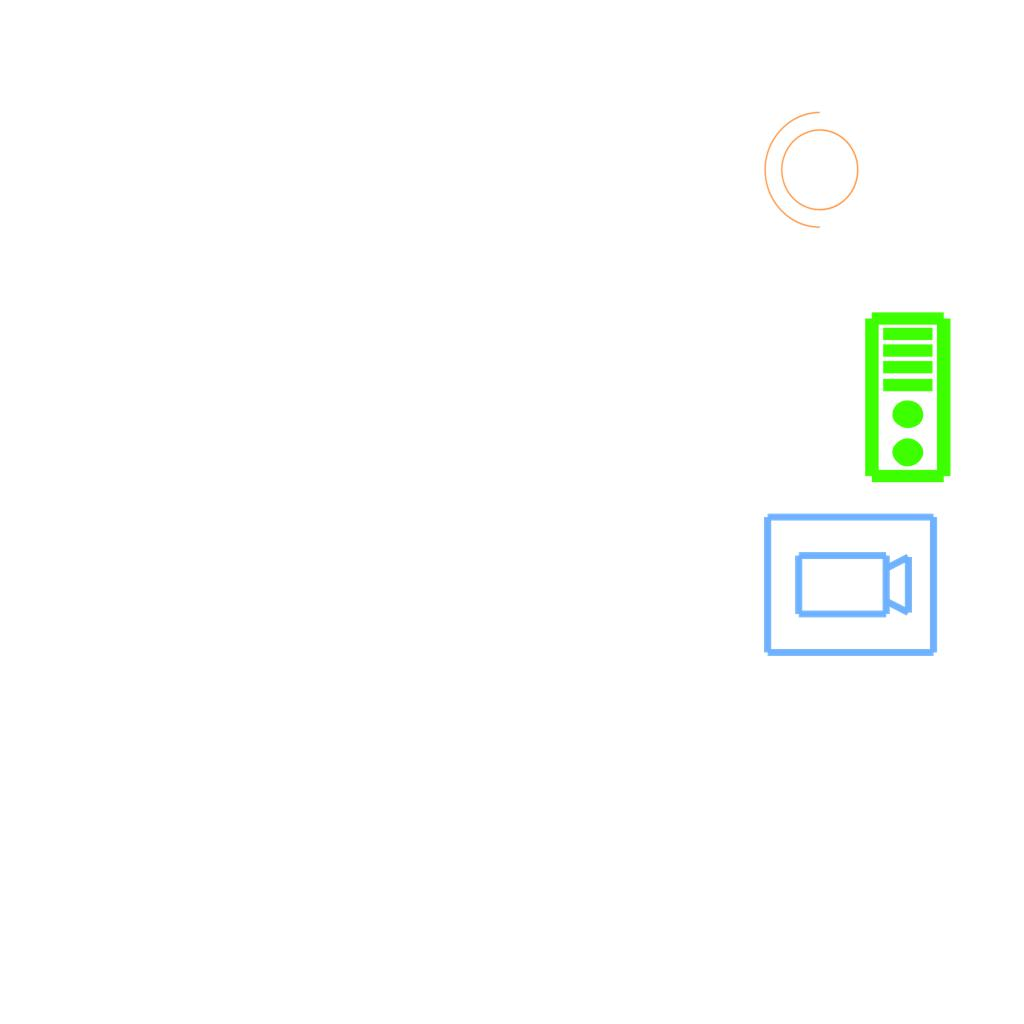Gegensprechanlage_mit_Video: (862, 310, 957, 486)
KFO_Kamera_mit_Festobjektiv: (759, 509, 941, 663)
Scheinwerfer_fuer_Alarmbeleuchtung: (759, 107, 871, 239)
